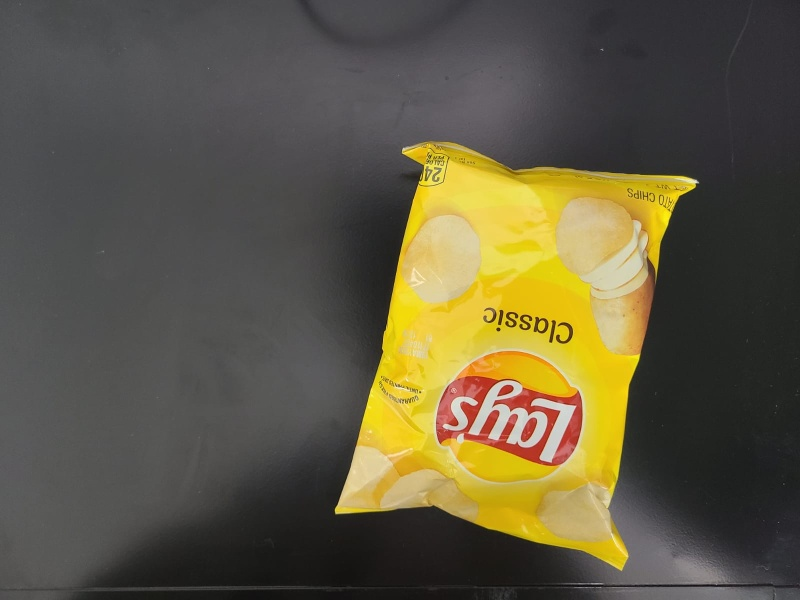lays: (334, 139, 705, 575)
